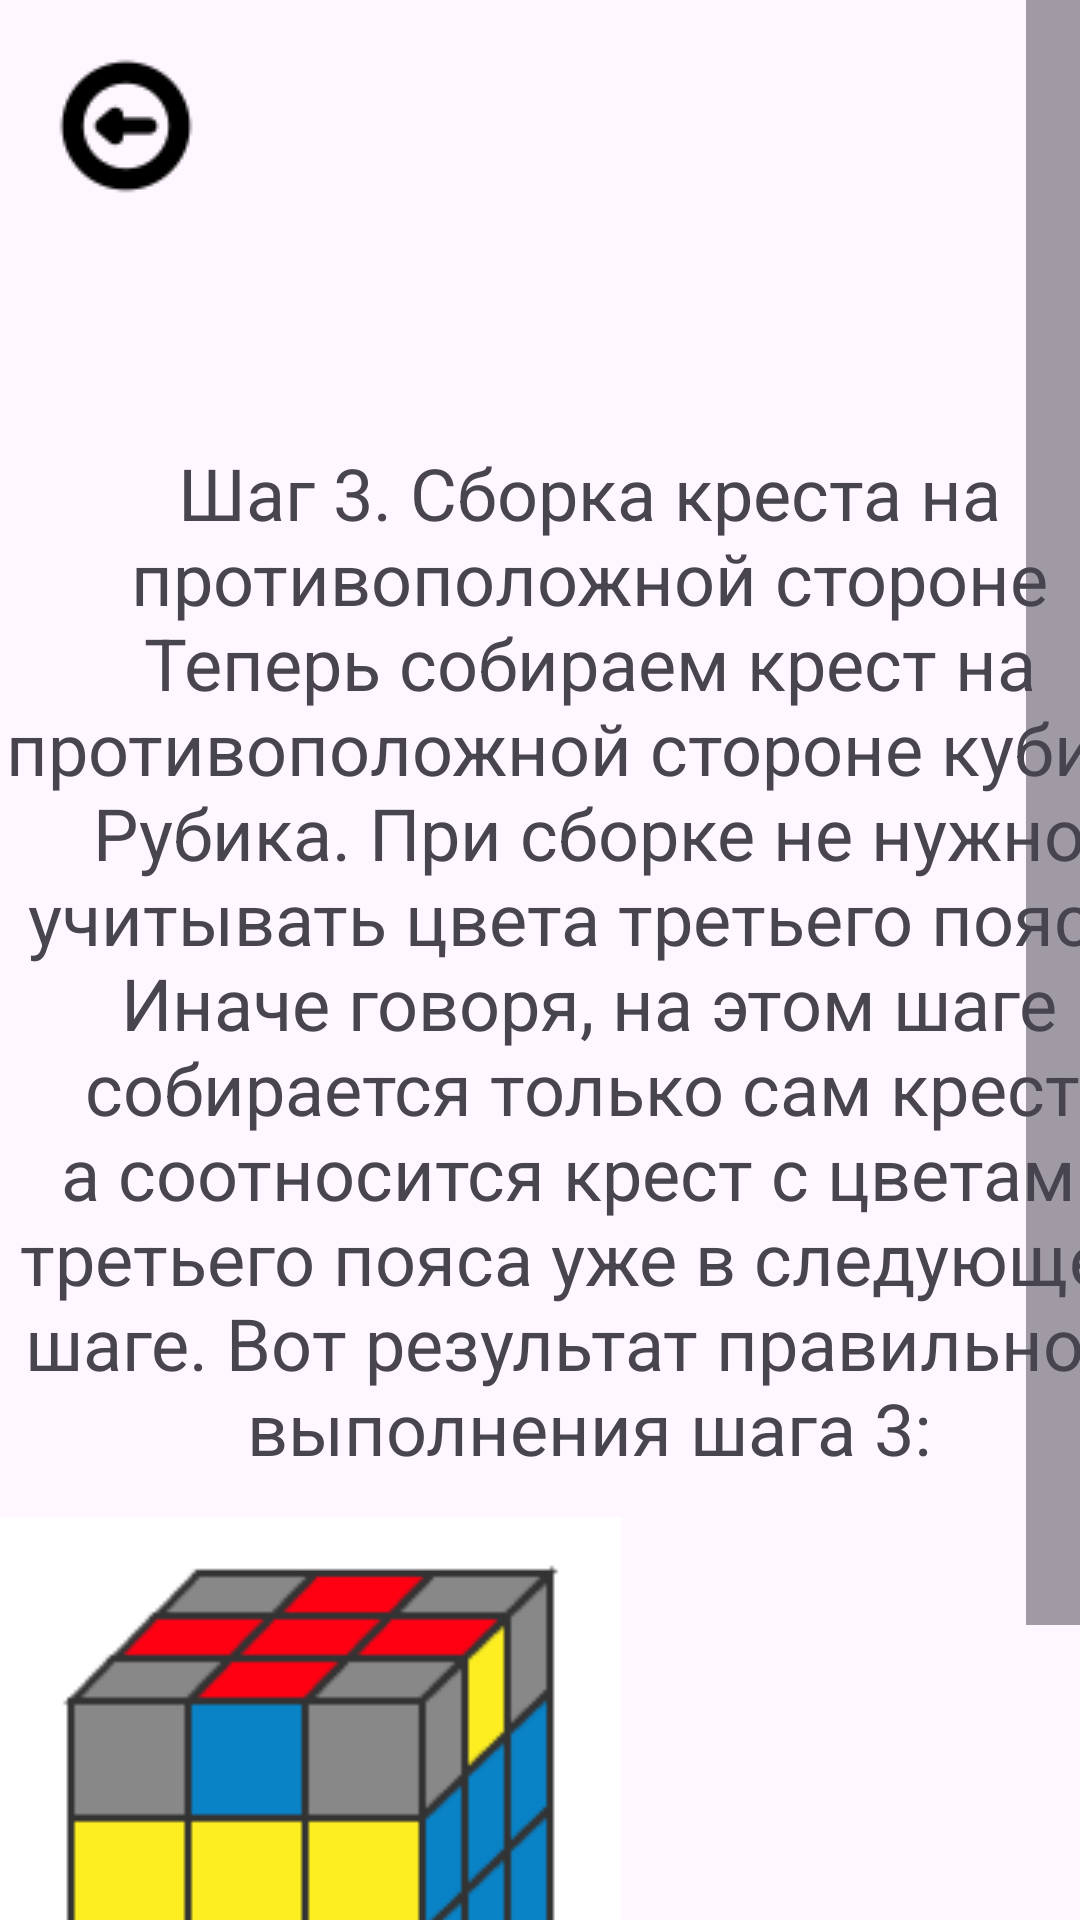

Icon bounding boxes for this 1080px×1920px phone screenshot, format {"left": x1, "top": y1, "right": x2, "bottom": y2}:
back: {"left": 59, "top": 59, "right": 193, "bottom": 193}
